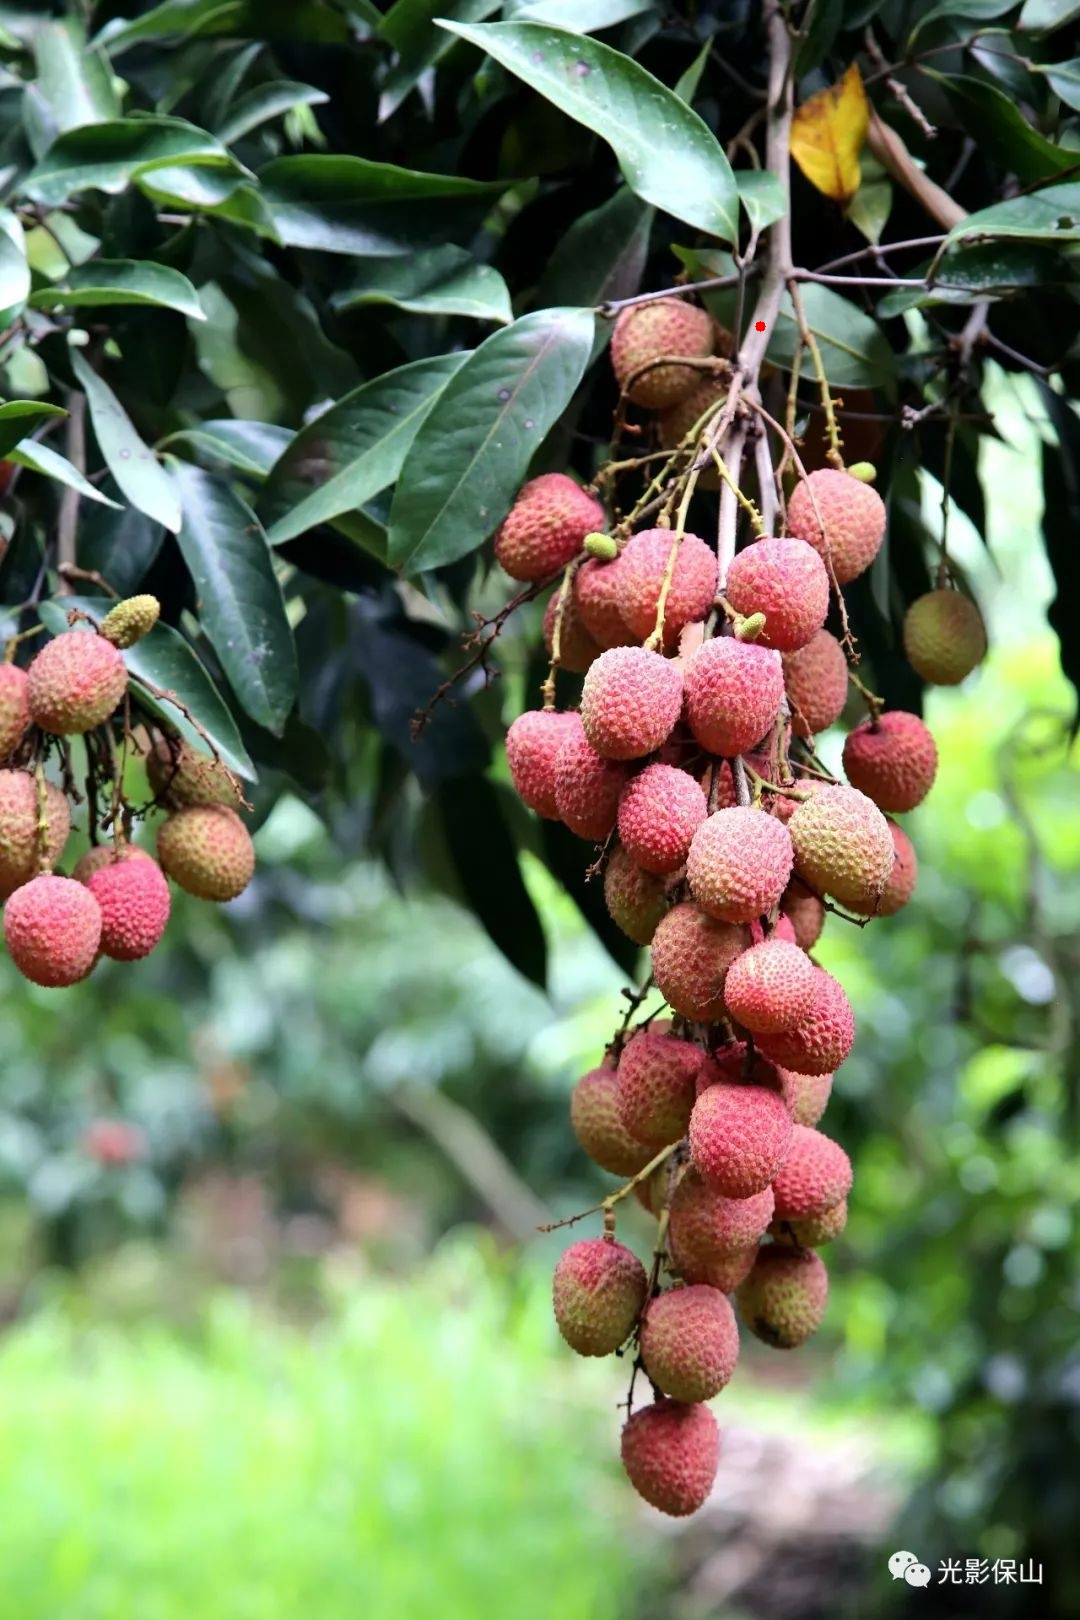litchi: (518, 329, 945, 1512), (1, 645, 254, 970)
stem: (708, 2, 812, 445), (47, 308, 92, 630)
